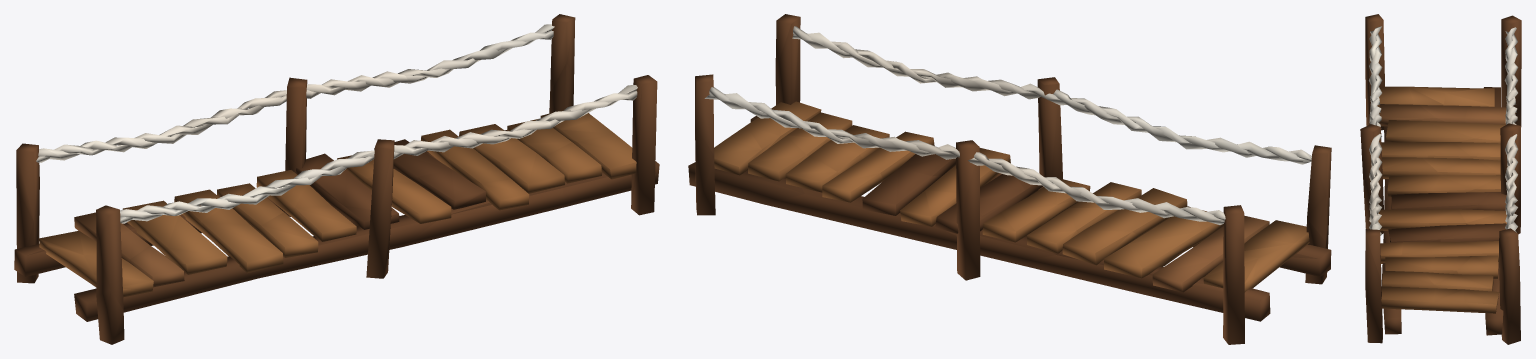
The model's file is glade_bridge_planks_lod2.glb.
3 views of the same model, side by side, from view 1: azimuth 30°, elevation 25°; view 2: azimuth 150°, elevation 25°; view 3: azimuth 270°, elevation 25° (orthographic). The views are drawn at different scales.
Visible parts, largest first — view 1: glade_bridge_planks.001; view 2: glade_bridge_planks.001; view 3: glade_bridge_planks.001.
Boxes of the visible parts, bbox=[...] form: glade_bridge_planks.001: bbox=[14, 14, 659, 344]; glade_bridge_planks.001: bbox=[688, 14, 1331, 344]; glade_bridge_planks.001: bbox=[1360, 14, 1521, 344].
Bounding box in the file's own units: 10.78 × 2.39 × 3.2.
